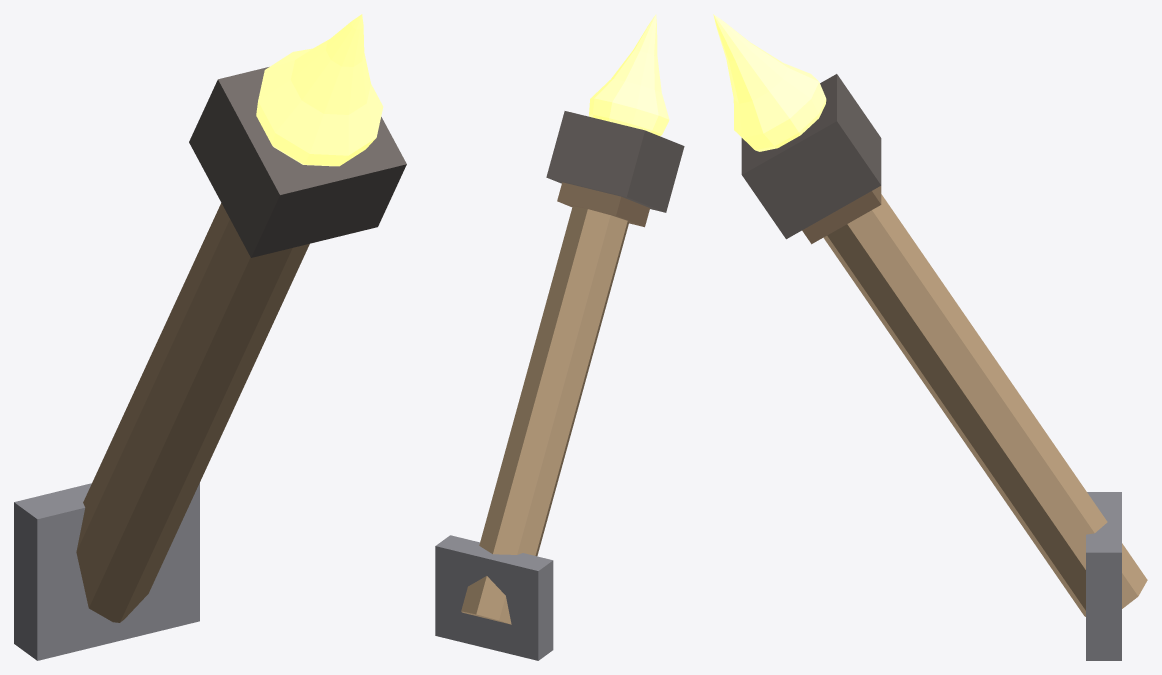
The model's file is torch_wall.gltf.
3 views of the same model, side by side, from view 1: azimuth 30°, elevation 25°; view 2: azimuth 150°, elevation 25°; view 3: azimuth 270°, elevation 25° (orthographic). The views are drawn at different scales.
Visible parts, largest first — view 1: torch_wall; view 2: torch_wall; view 3: torch_wall.
Part boxes in pixels (x1,y1,x2,y2): torch_wall: (14,14,406,660); torch_wall: (435,14,684,660); torch_wall: (713,14,1147,660).
Size of the model in its own units: 0.12 by 0.5685 by 0.363.
